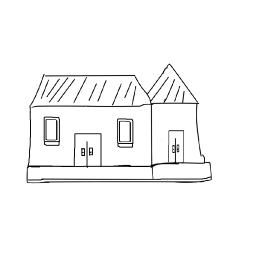door: (70, 128, 104, 170), (165, 127, 187, 166)
open_window: (113, 113, 139, 150), (40, 114, 62, 148)
roof: (24, 71, 152, 110), (146, 63, 199, 104)
wall: (26, 100, 154, 171)
